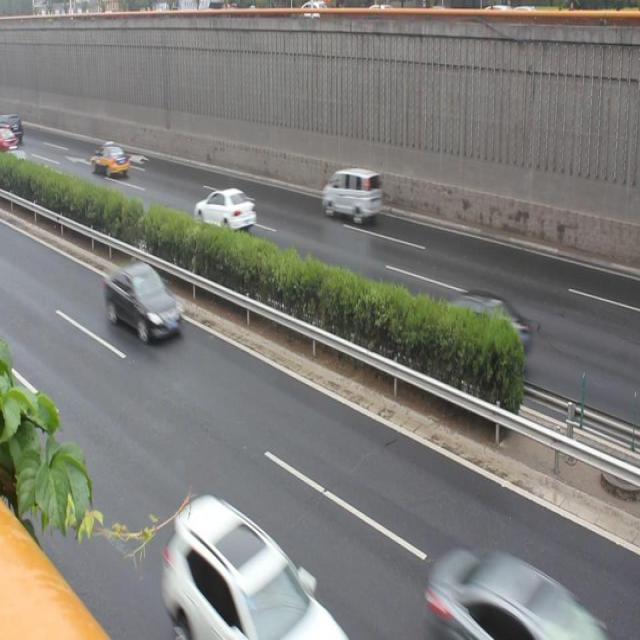car: (167, 496, 343, 640), (426, 538, 600, 640), (439, 285, 534, 368), (105, 256, 181, 344), (193, 185, 255, 239)
truck: (317, 160, 381, 229)
